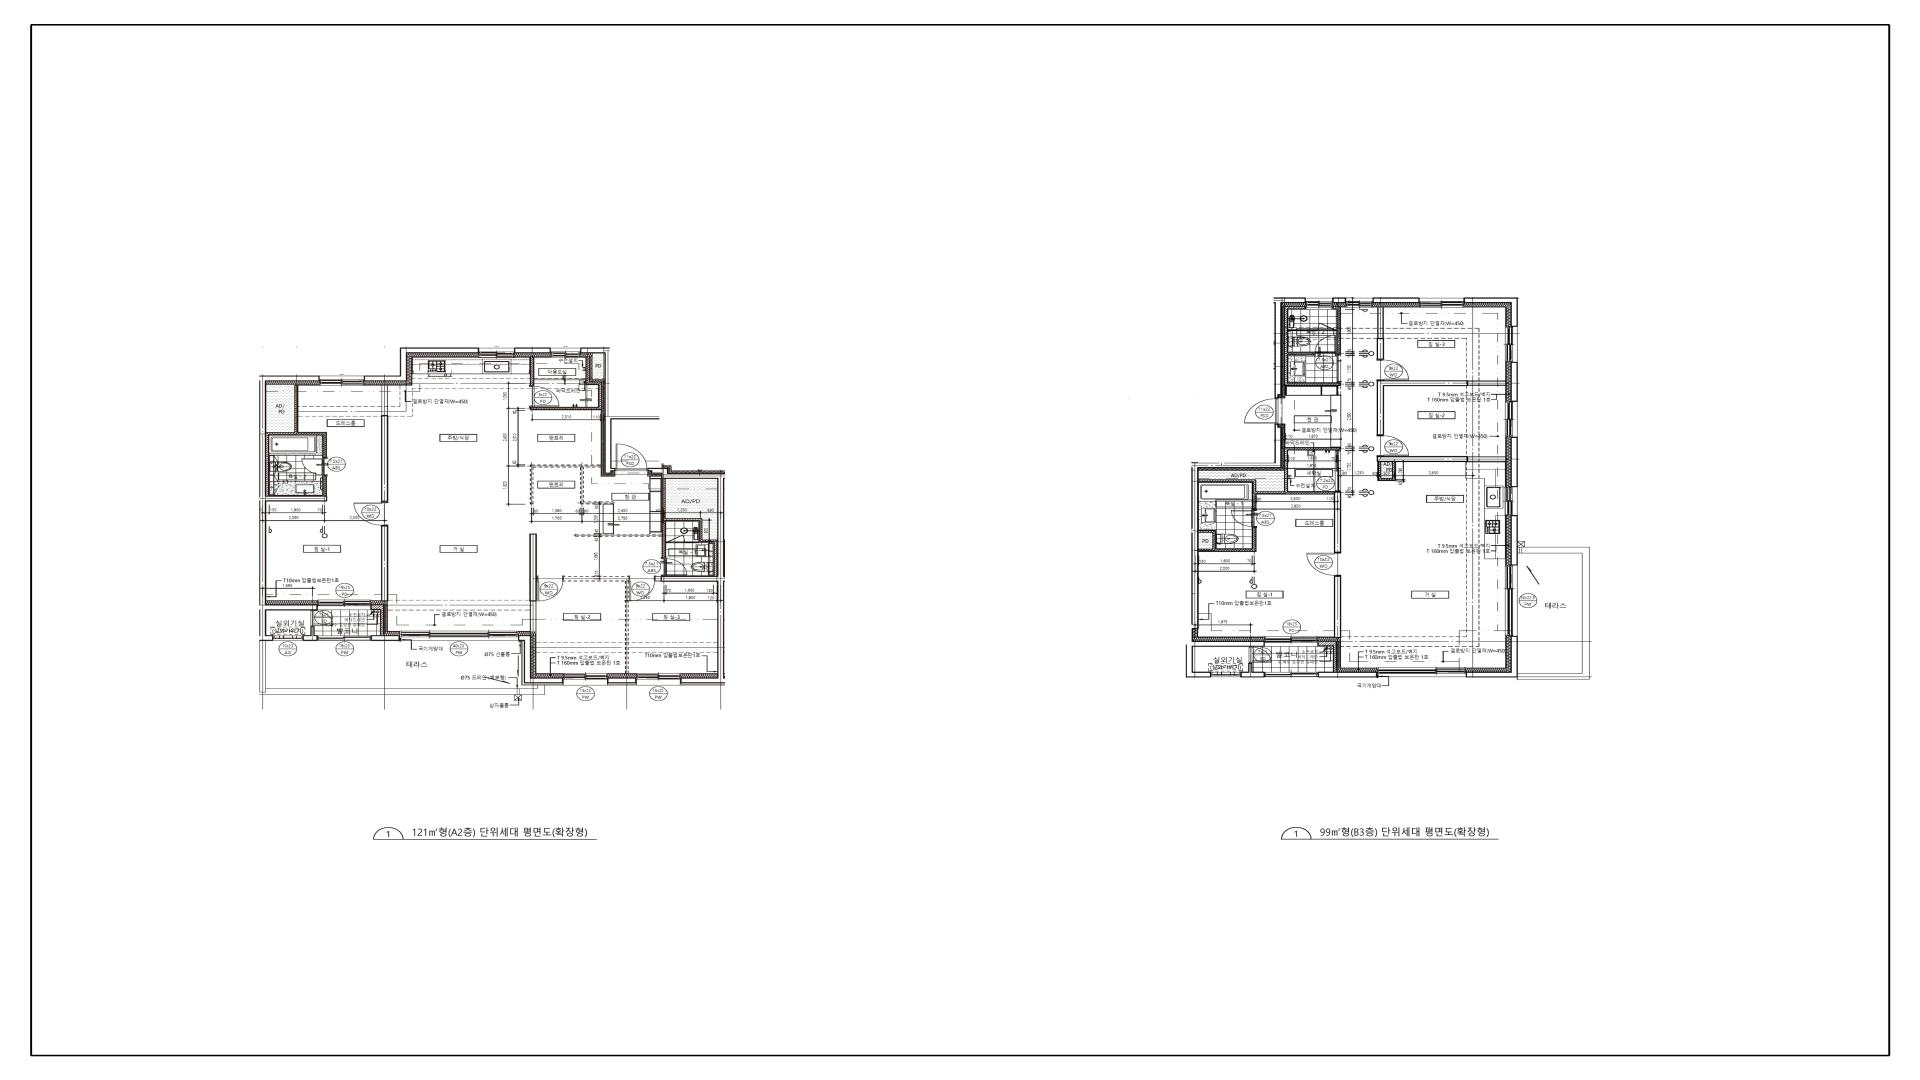door: (1244, 398, 1282, 425), (616, 444, 648, 471), (354, 502, 389, 526), (1307, 553, 1341, 576), (1377, 359, 1409, 381), (1377, 435, 1409, 457), (537, 576, 564, 601), (529, 385, 559, 407), (629, 576, 655, 601), (301, 457, 328, 477), (661, 557, 687, 576), (1231, 509, 1257, 528), (1314, 335, 1337, 356), (311, 611, 333, 627), (1249, 647, 1271, 663), (666, 535, 699, 543), (1318, 323, 1334, 331), (1337, 360, 1341, 382)
wall: (259, 376, 327, 641), (647, 468, 725, 684), (1199, 447, 1341, 553), (1192, 465, 1281, 628), (580, 348, 659, 473), (1377, 380, 1507, 434), (266, 385, 327, 496), (564, 577, 629, 674), (1284, 306, 1341, 386), (364, 347, 479, 382), (530, 357, 602, 410), (1377, 456, 1507, 481), (530, 465, 613, 504), (665, 479, 717, 540), (1275, 298, 1306, 398), (518, 636, 564, 684), (1466, 636, 1518, 678), (1464, 298, 1518, 326), (1199, 528, 1257, 552), (381, 386, 389, 502), (529, 534, 536, 632), (381, 526, 389, 601), (1318, 641, 1337, 672), (1334, 576, 1341, 638), (1192, 641, 1264, 647), (1333, 306, 1341, 360), (370, 605, 384, 635), (1377, 307, 1384, 359), (1511, 515, 1518, 566), (1318, 672, 1377, 678), (1511, 437, 1518, 487), (1241, 663, 1264, 678), (1373, 297, 1419, 303), (1511, 362, 1518, 401), (514, 347, 551, 354), (575, 534, 661, 537), (302, 627, 318, 641), (371, 635, 400, 641), (607, 678, 637, 683), (529, 358, 534, 385), (1192, 672, 1211, 678), (322, 476, 327, 496), (1332, 297, 1346, 303), (1288, 329, 1318, 331), (655, 576, 661, 582), (1334, 329, 1336, 331)
window: (400, 631, 518, 641), (1505, 566, 1518, 636), (1377, 667, 1466, 677), (563, 673, 607, 688), (636, 674, 680, 688), (1264, 637, 1318, 647), (318, 600, 371, 610), (1505, 326, 1518, 362), (1505, 401, 1518, 437), (1419, 298, 1464, 308), (1505, 487, 1518, 515), (1306, 298, 1333, 310), (1346, 298, 1373, 308), (1264, 672, 1318, 677), (318, 636, 371, 641), (1335, 451, 1341, 491), (320, 376, 364, 381), (479, 348, 514, 353), (1211, 672, 1241, 677), (551, 348, 580, 353), (273, 636, 302, 641)
